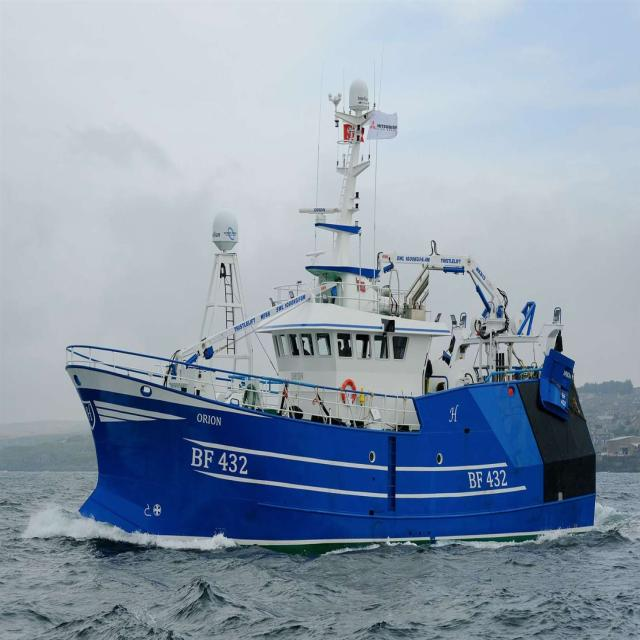boat: (46, 53, 620, 600)
